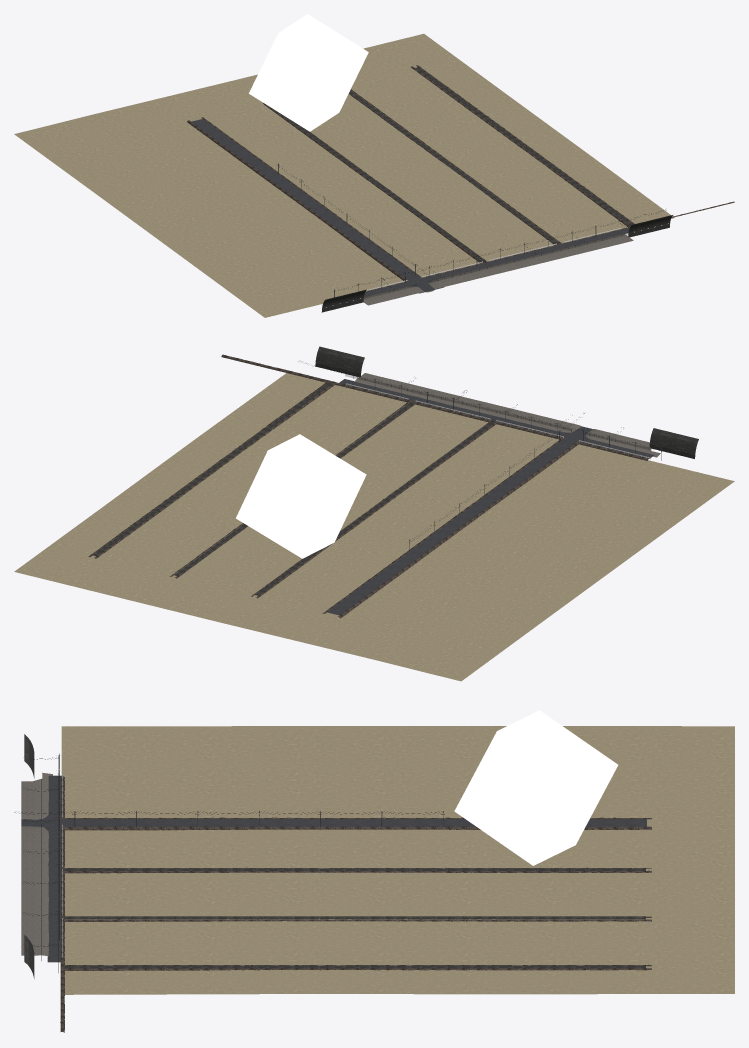
File: extraneous.glb
The picture shows the model from 3 angles, top to bottom: view 1: azimuth 30°, elevation 25°; view 2: azimuth 150°, elevation 25°; view 3: azimuth 270°, elevation 25°; orthographic projection. The views are drawn at different scales.
Parts seen in each view (by area): view 1: Ground, Thought, Aslphalt, Aslphalt.002, Aslphalt.001, Grass.004, Grass.003, Tunnel, Grass.002, Grass.001; view 2: Ground, Thought, Aslphalt, Aslphalt.001, Aslphalt.002, Tunnel, Grass.004, Grass, Grass.003, Grass.001, Grass.002; view 3: Ground, Thought, Aslphalt, Aslphalt.002, Aslphalt.001, Grass.002, Grass.004, Grass.003, Grass.001, Grass, Tunnel.
Boxes of the visible parts, x1,y1,x2,y2 form: Ground: (14, 33, 674, 317); Thought: (249, 14, 368, 131); Aslphalt: (191, 119, 629, 296); Aslphalt.002: (270, 67, 633, 262); Aslphalt.001: (363, 233, 633, 305); Grass.004: (187, 117, 421, 281); Grass.003: (411, 65, 634, 227); Tunnel: (321, 215, 672, 312); Grass.002: (348, 89, 561, 245); Grass.001: (263, 103, 486, 263); Ground: (14, 373, 734, 681); Thought: (236, 434, 366, 558); Aslphalt: (327, 379, 654, 615); Aslphalt.001: (354, 373, 660, 457); Aslphalt.002: (92, 382, 494, 595); Tunnel: (315, 346, 698, 458); Grass.004: (322, 438, 578, 618); Grass: (221, 354, 648, 460); Grass.003: (88, 382, 334, 558); Grass.001: (251, 421, 496, 598); Grass.002: (169, 401, 414, 578); Ground: (61, 726, 734, 994); Thought: (454, 710, 618, 865); Aslphalt: (21, 775, 646, 962); Aslphalt.002: (64, 868, 645, 968); Aslphalt.001: (21, 772, 52, 956); Grass.002: (64, 916, 651, 921); Grass.004: (61, 817, 651, 830); Grass.003: (64, 964, 651, 970); Grass.001: (64, 867, 651, 873); Grass: (60, 776, 65, 1032); Tunnel: (24, 734, 34, 978).
Bounding box in the file's own units: 293 × 71.68 × 290.
13 materials, 8 textured.
